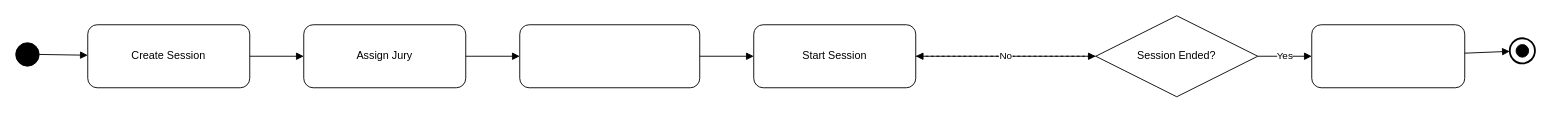
This 1552x113 diagram has some shape labels left out. Here are the shapes that lost their labels. From the top down, the box of each, then its label:
(519, 24, 700, 88): Assign/Shuffle Teams
(1311, 24, 1465, 88): Lock Marks
